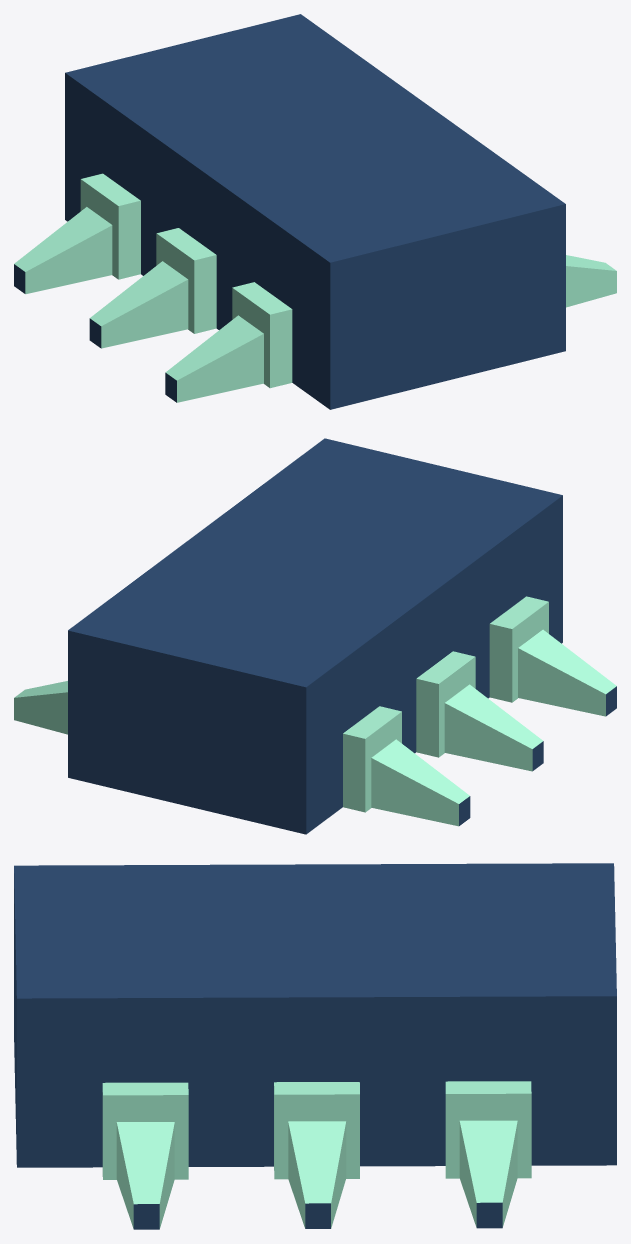
3 views of the same model, one above another, from view 1: azimuth 30°, elevation 25°; view 2: azimuth 150°, elevation 25°; view 3: azimuth 270°, elevation 25° (orthographic). The views are drawn at different scales.
Parts seen in each view (by area): view 1: R-1; view 2: R-1; view 3: R-1.
Boxes of the visible parts, x1,y1,x2,y2 form: R-1: (14, 14, 616, 409); R-1: (14, 438, 616, 834); R-1: (14, 863, 616, 1229).
Size of the model in its own units: 182 by 59.01 by 185.
